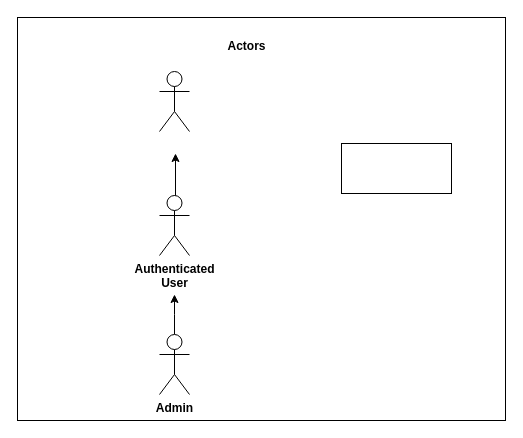
The diagram is 523 pixels wide and 438 high, and some of its shapes have lost their labels. The shapes that lost their labels are listed below. From the top down, each one's centre as x and y in pixels, then its label:
point 174,101: User
point 396,168: «actor» Inpainting Service
